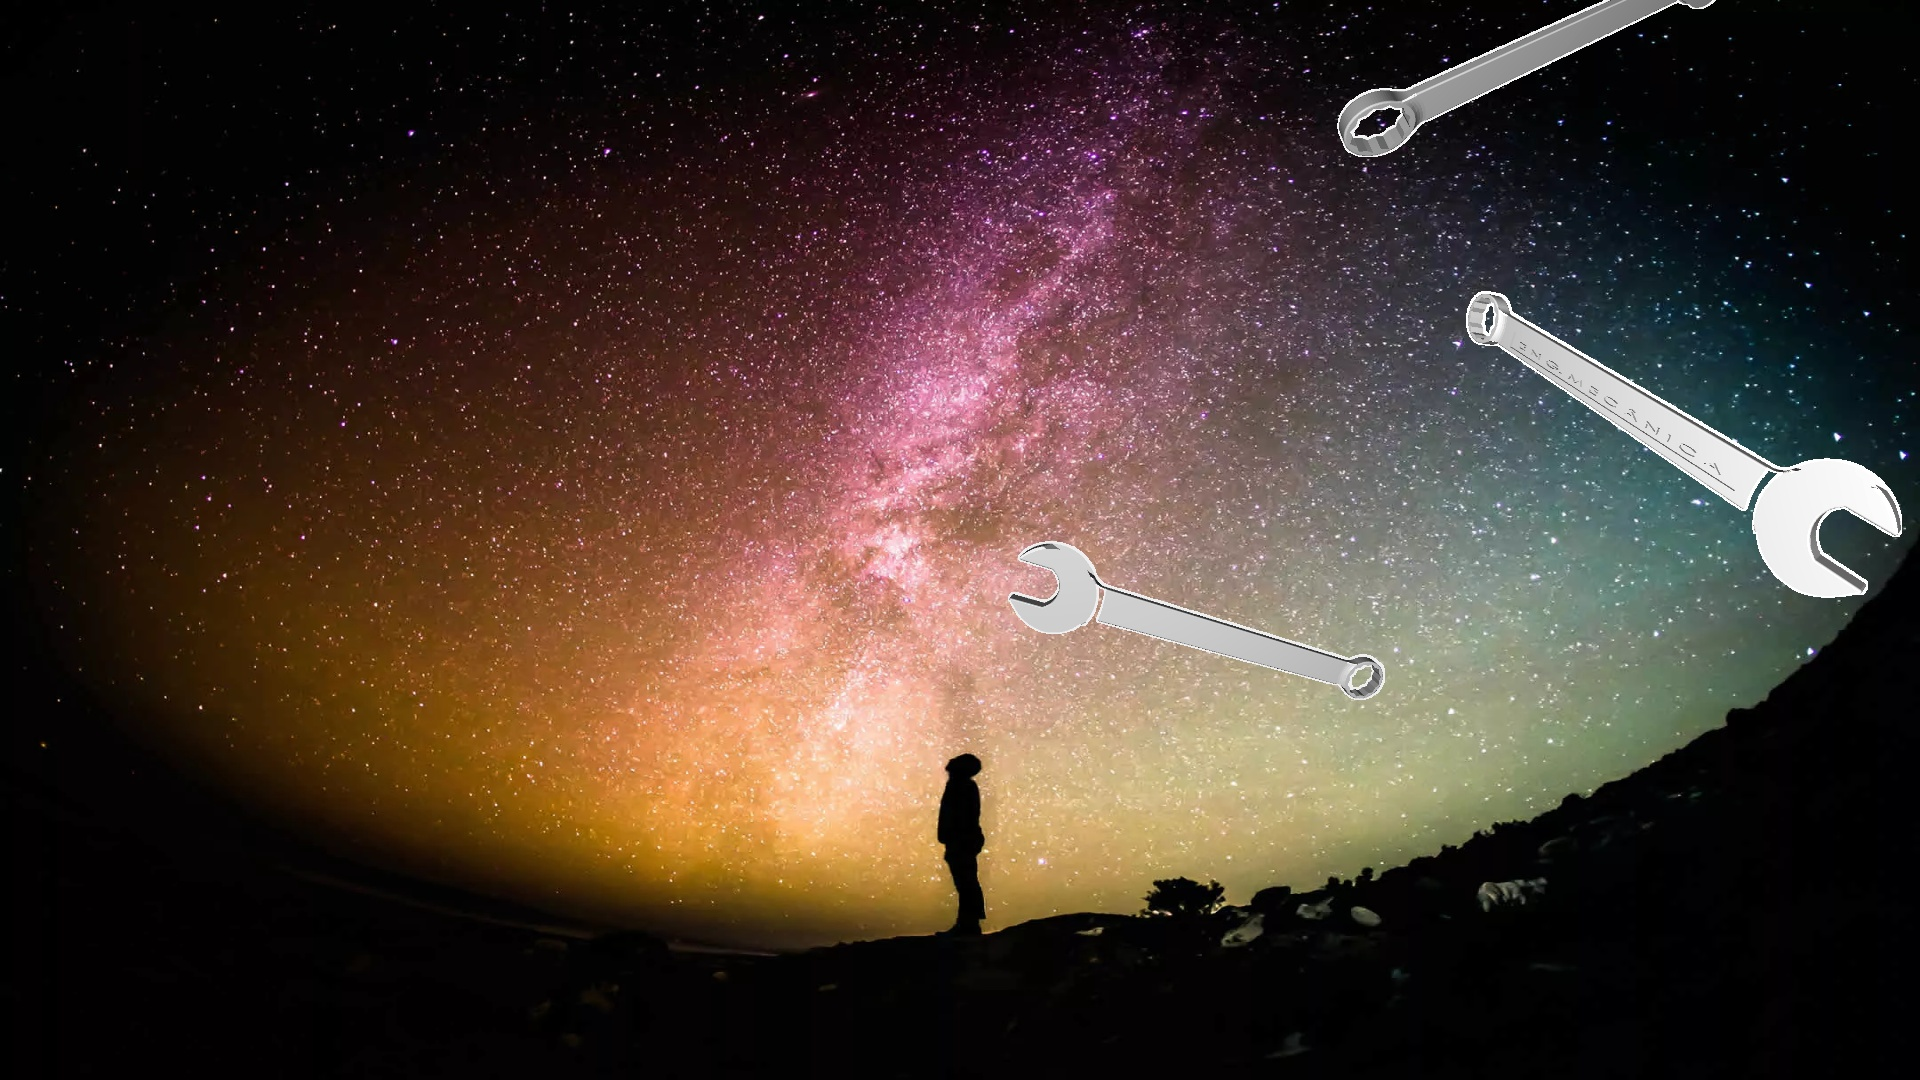Mixed Key: (1466, 291, 1902, 597), (1007, 541, 1385, 699), (1337, 0, 1716, 156)
